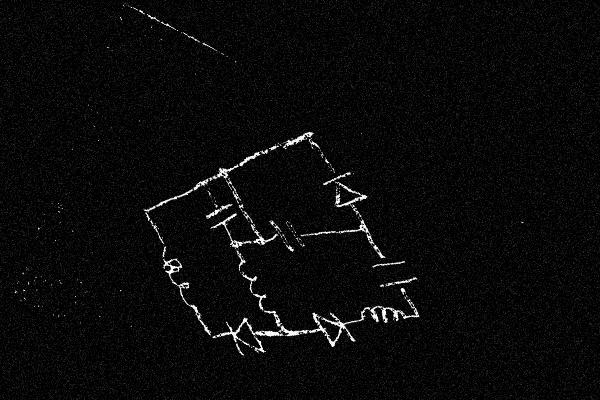capacitor: (362, 242, 426, 306), (261, 210, 313, 260), (197, 191, 241, 243)
diode: (315, 159, 375, 223), (215, 306, 275, 369), (304, 299, 364, 359)
inductor: (143, 236, 215, 317), (223, 253, 293, 323), (355, 288, 411, 345)
